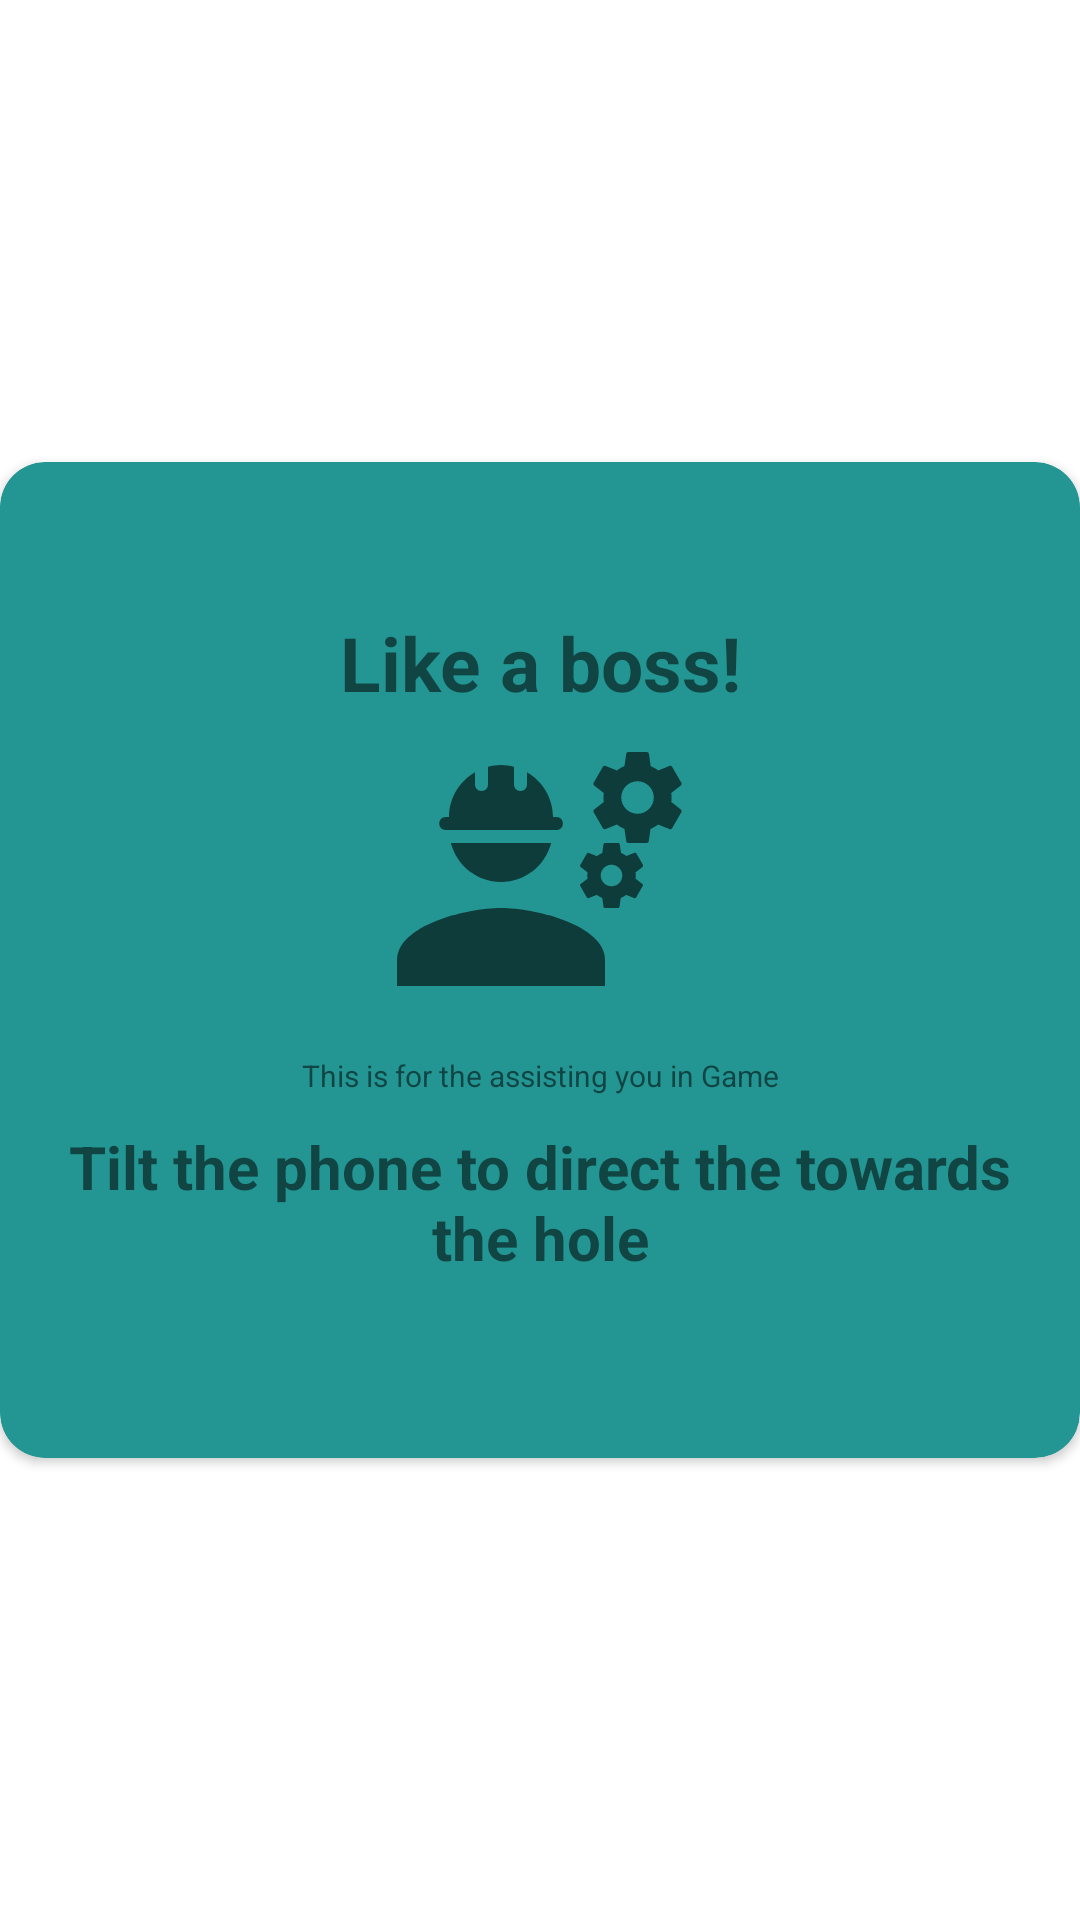

Icon bounding boxes for this 1080 x 1920 phone screenshot, format (x1, y1, x2, y2):
engineering: (397, 752, 682, 986)
